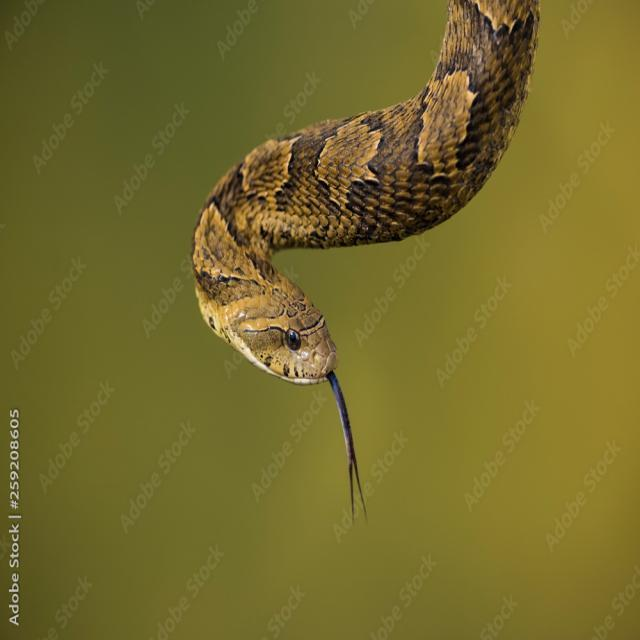Snake: (185, 0, 571, 505)
